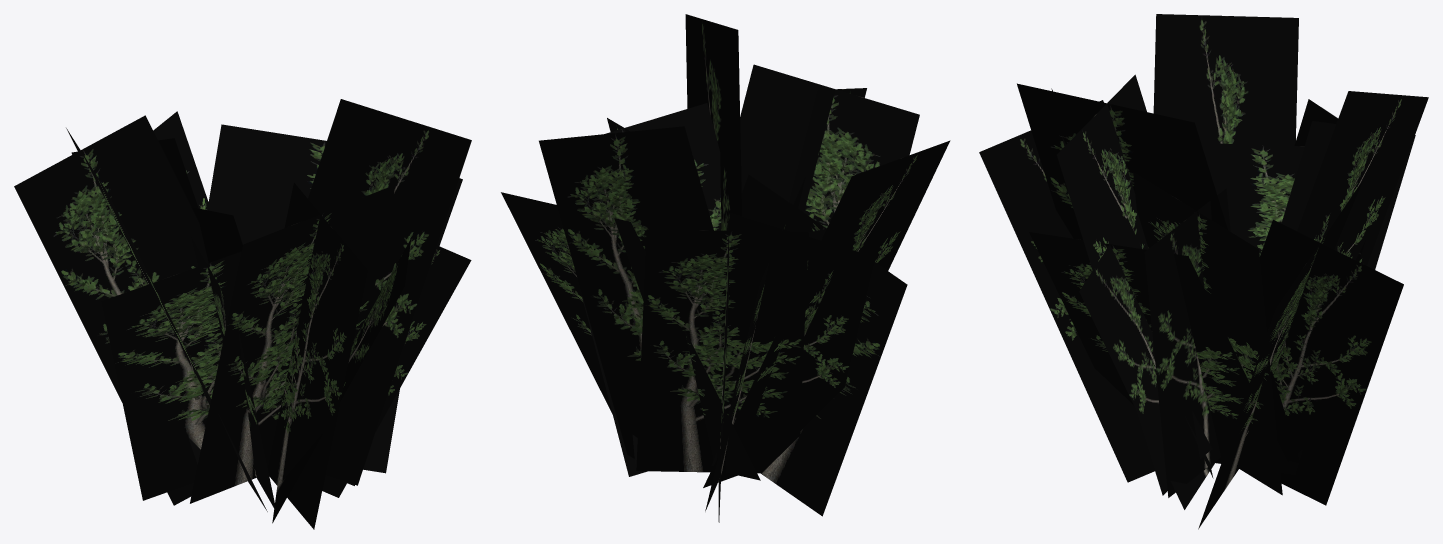
The model's file is oak_bush.glb.
3 renders of one model, left to right at view 1: azimuth 30°, elevation 25°; view 2: azimuth 150°, elevation 25°; view 3: azimuth 270°, elevation 25°, orthographic.
Parts seen in each view (by area): view 1: Oak (holly) bush shape01; view 2: Oak (holly) bush shape01; view 3: Oak (holly) bush shape01.
Part boxes in pixels (<box>): Oak (holly) bush shape01: <box>14,99,471,529</box>; Oak (holly) bush shape01: <box>501,14,950,522</box>; Oak (holly) bush shape01: <box>979,14,1428,529</box>.
Bounding box in the file's own units: 109 × 103 × 98.52.
Materials: 1 (1 with a texture image).
